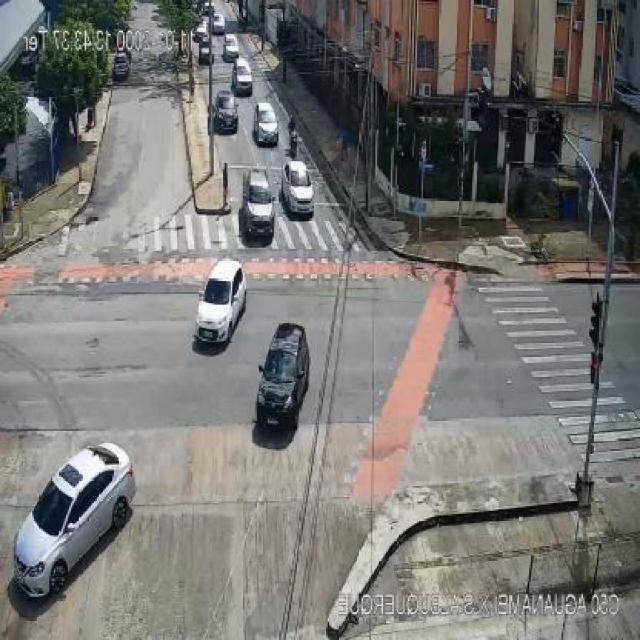Car: (12, 442, 136, 596), (256, 324, 311, 431), (195, 259, 246, 343), (242, 170, 276, 238), (281, 160, 314, 216), (253, 102, 279, 145), (214, 90, 238, 132), (232, 58, 253, 96), (113, 52, 130, 80), (222, 34, 239, 61), (198, 42, 214, 65), (195, 20, 209, 44), (212, 12, 226, 34), (202, 1, 216, 17)
